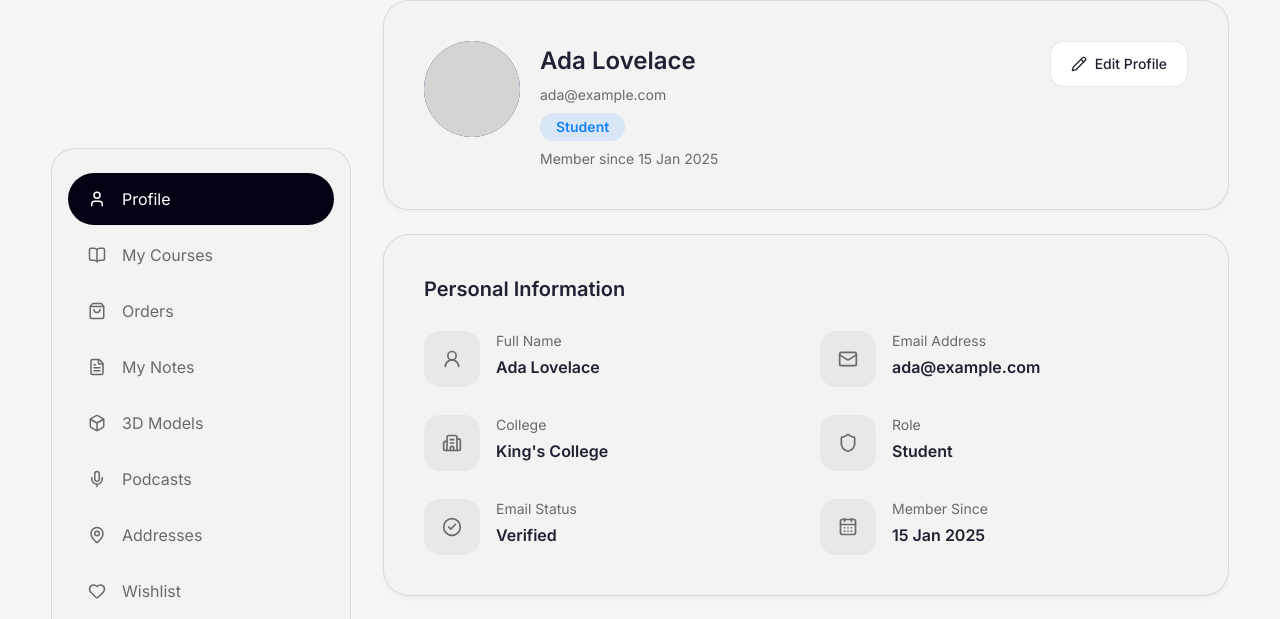
Test case: editing › keeps the form open and shows the error when the save fails
The image size is (1280, 619).
Click the button "Edit Profile" at [1119, 64], box x1=1050 y1=41 x2=1188 y2=87
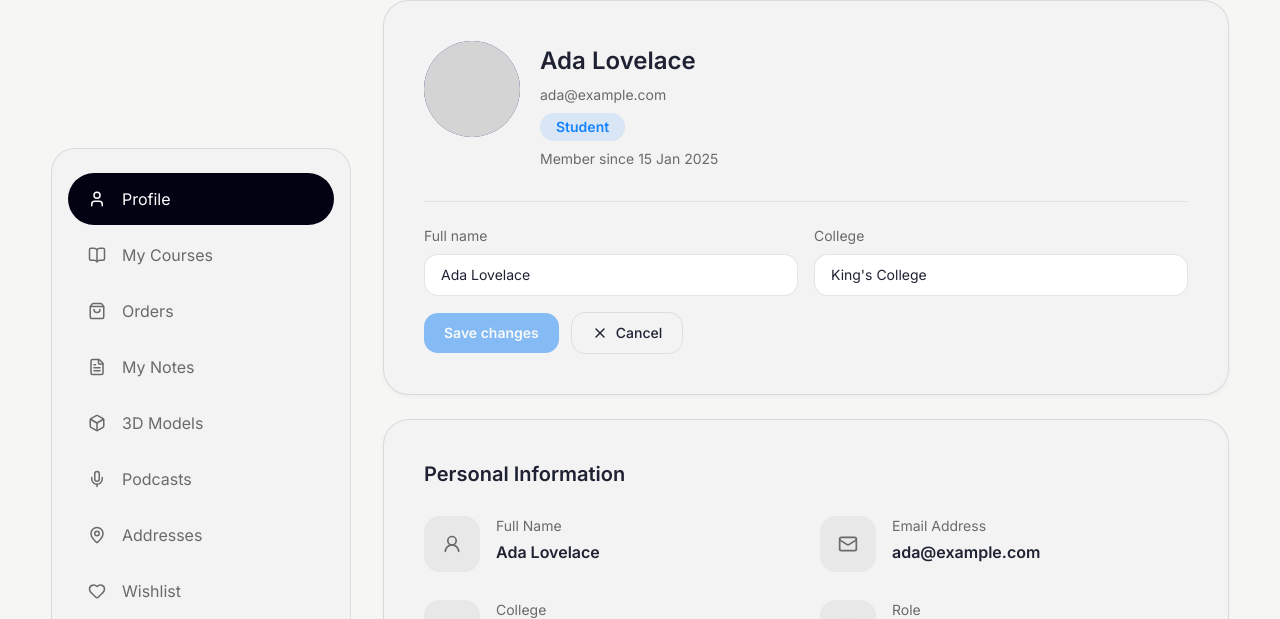
Type "!" into the field labelled "Full name" at [611, 275], box x1=424 y1=254 x2=798 y2=296
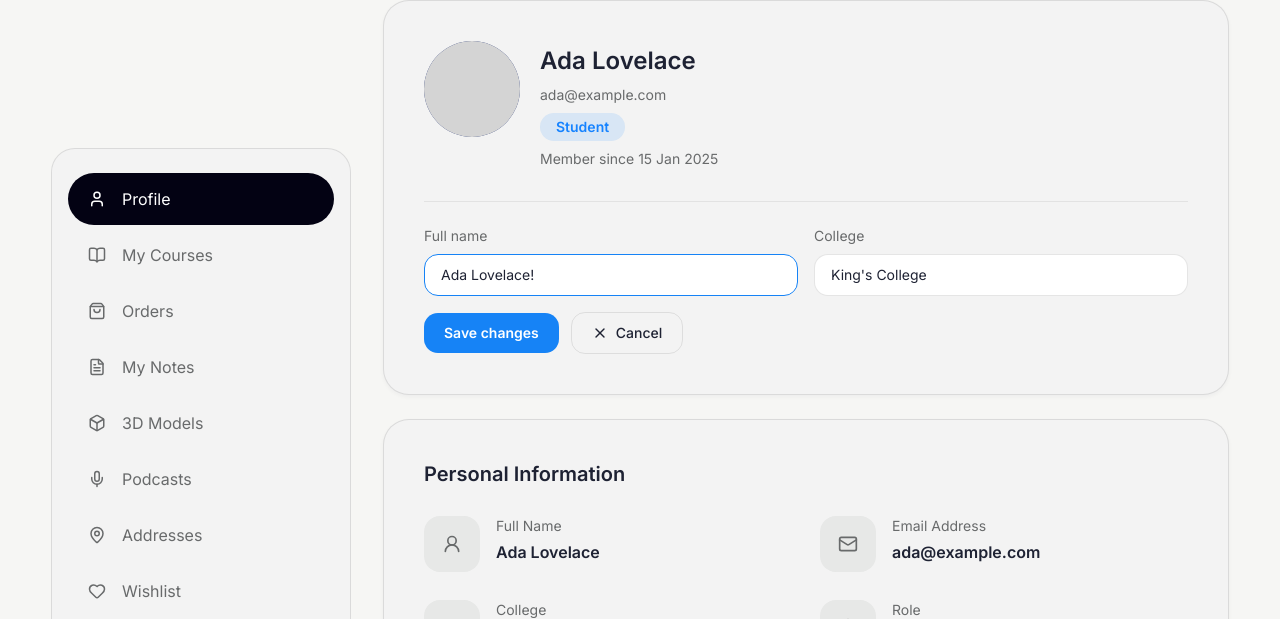
Click the button "Save changes" at [491, 333], box x1=424 y1=313 x2=559 y2=353
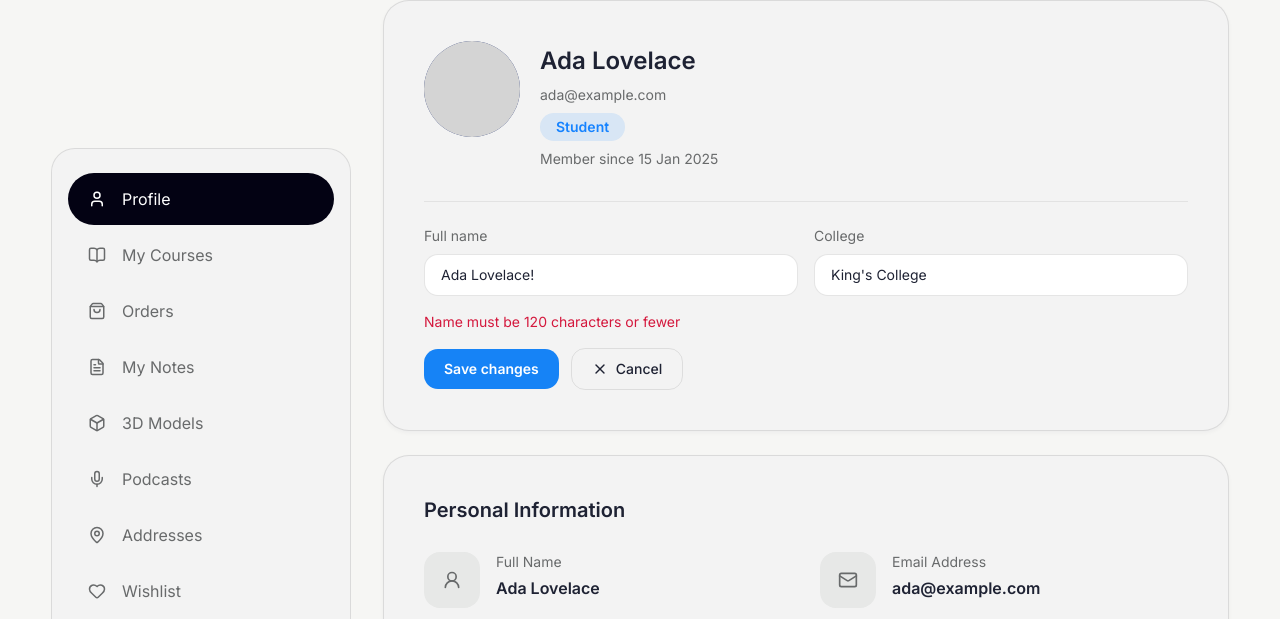
Now the field labelled "Full name" is shown, box x1=424 y1=254 x2=798 y2=296
Now the message shows "120 characters", box x1=424 y1=313 x2=680 y2=330
